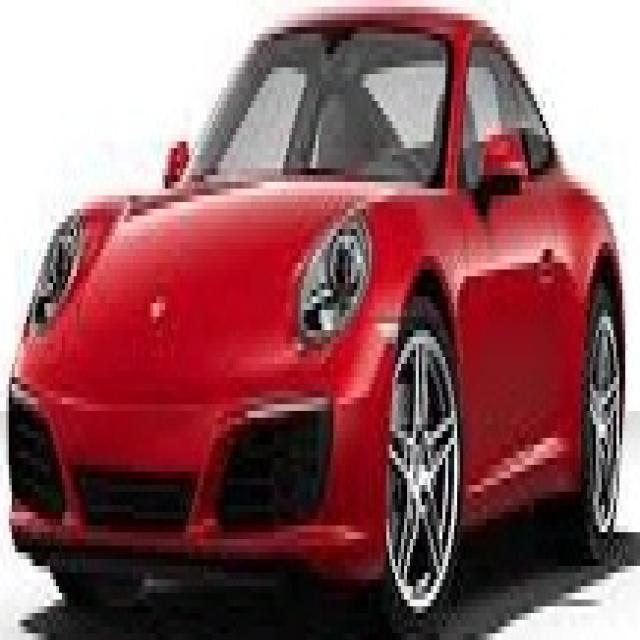red: (10, 1, 632, 597)
